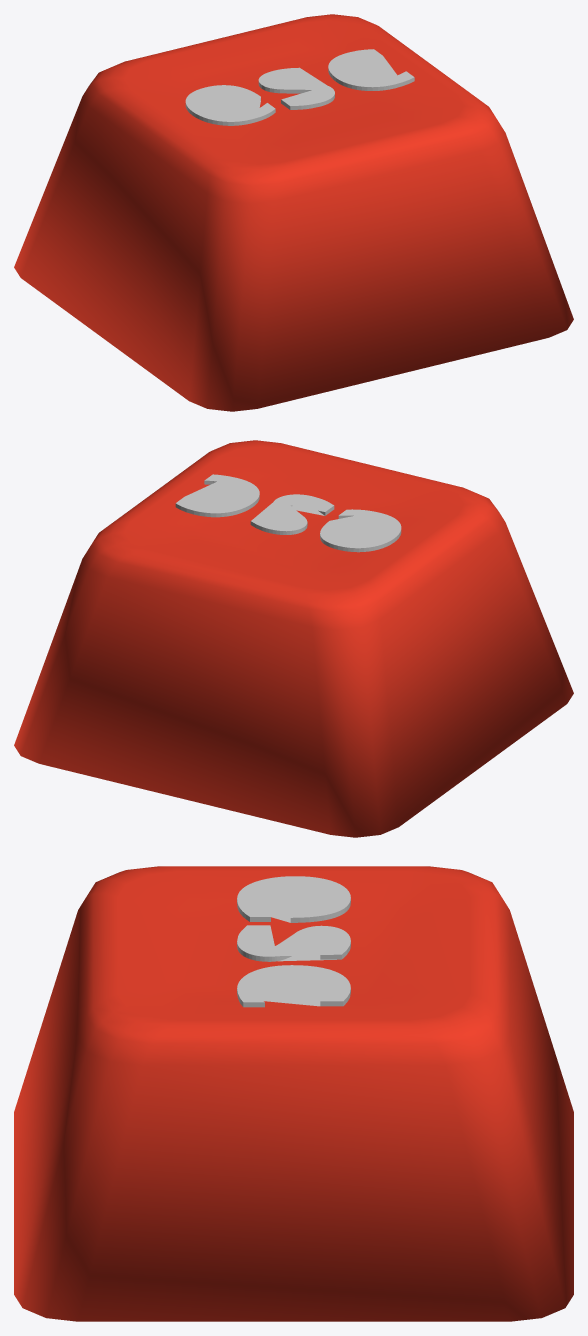
File: EscapeKey.fbx
The picture shows the model from 3 angles, top to bottom: view 1: azimuth 30°, elevation 25°; view 2: azimuth 150°, elevation 25°; view 3: azimuth 270°, elevation 25°; orthographic projection. The views are drawn at different scales.
Parts seen in each view (by area): view 1: KeyCap.ArrowLeft.001; view 2: KeyCap.ArrowLeft.001; view 3: KeyCap.ArrowLeft.001.
Part boxes in pixels (<box>): KeyCap.ArrowLeft.001: <box>14,14,573,411</box>; KeyCap.ArrowLeft.001: <box>14,440,573,837</box>; KeyCap.ArrowLeft.001: <box>14,866,573,1321</box>.
Bounding box in the file's own units: 53.55 × 27.87 × 53.55.
1 material, 1 textured.
